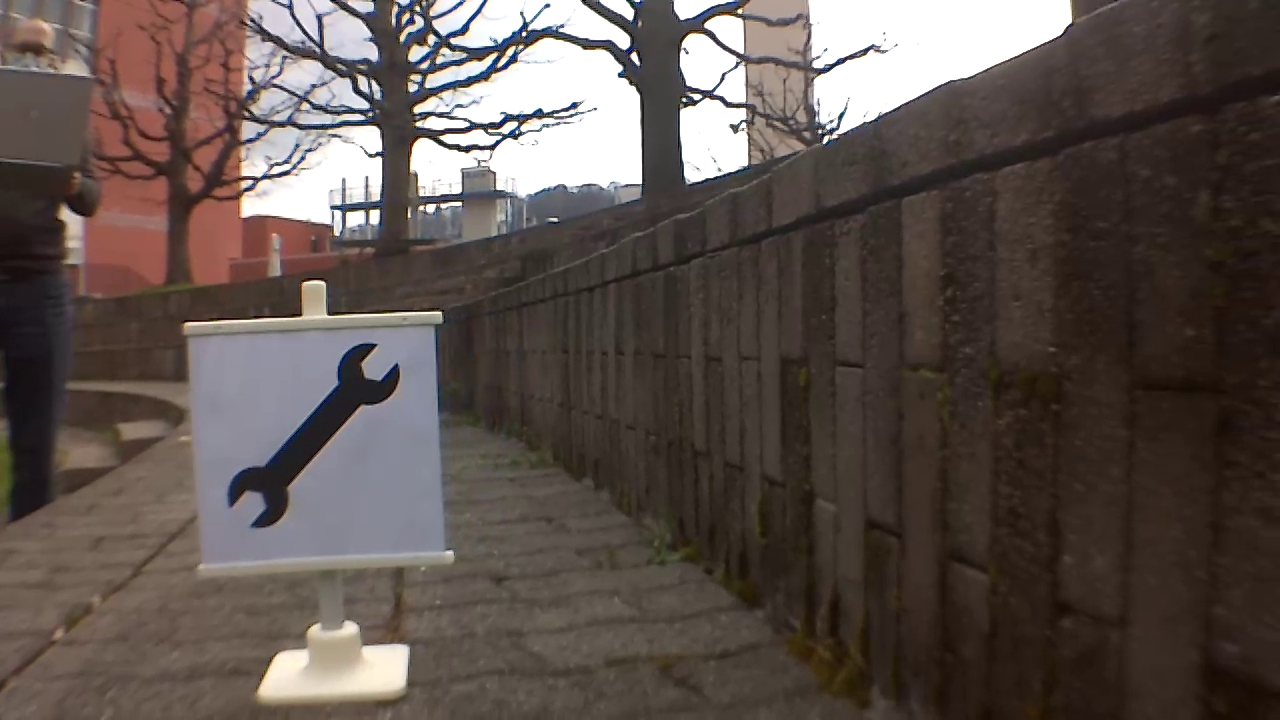wrench: (225, 343, 403, 528)
